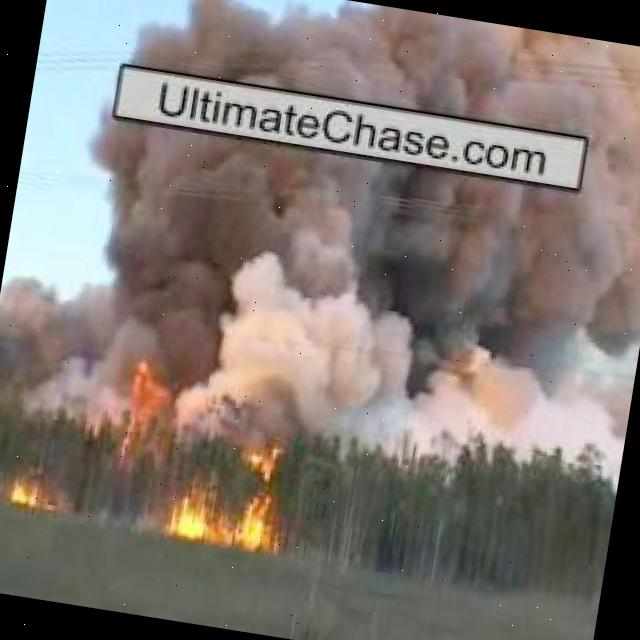fire: (173, 430, 296, 555), (112, 346, 178, 454), (11, 478, 63, 509)
